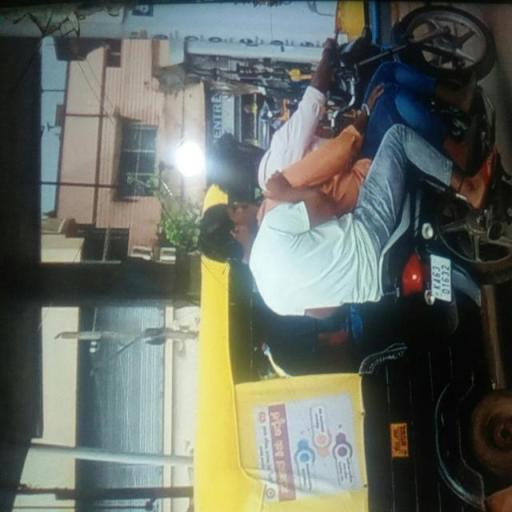tripple riding: (197, 34, 413, 350)
